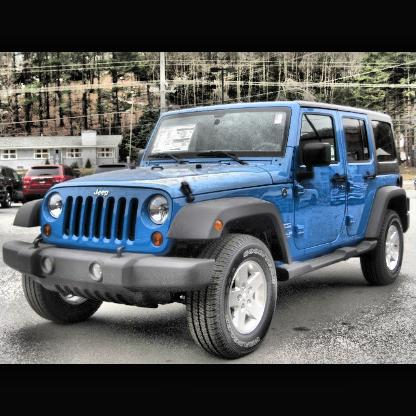Jeep Wrangler SUV 2012: (3, 100, 414, 362)
